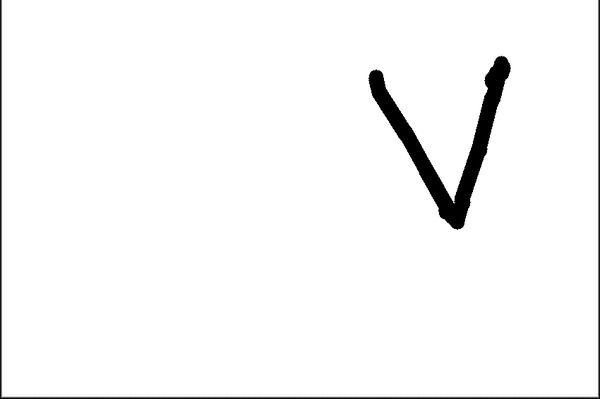V: (366, 39, 518, 239)
